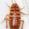cockroach: (8, 3, 22, 29)
